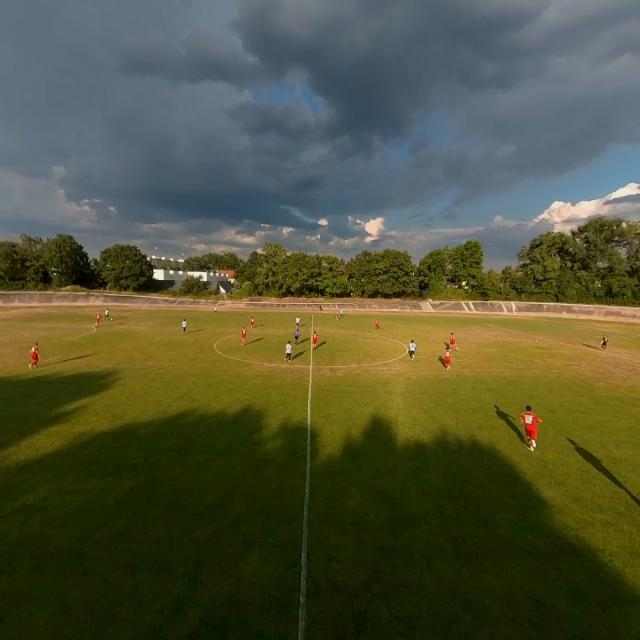ball: (110, 317, 113, 321)
